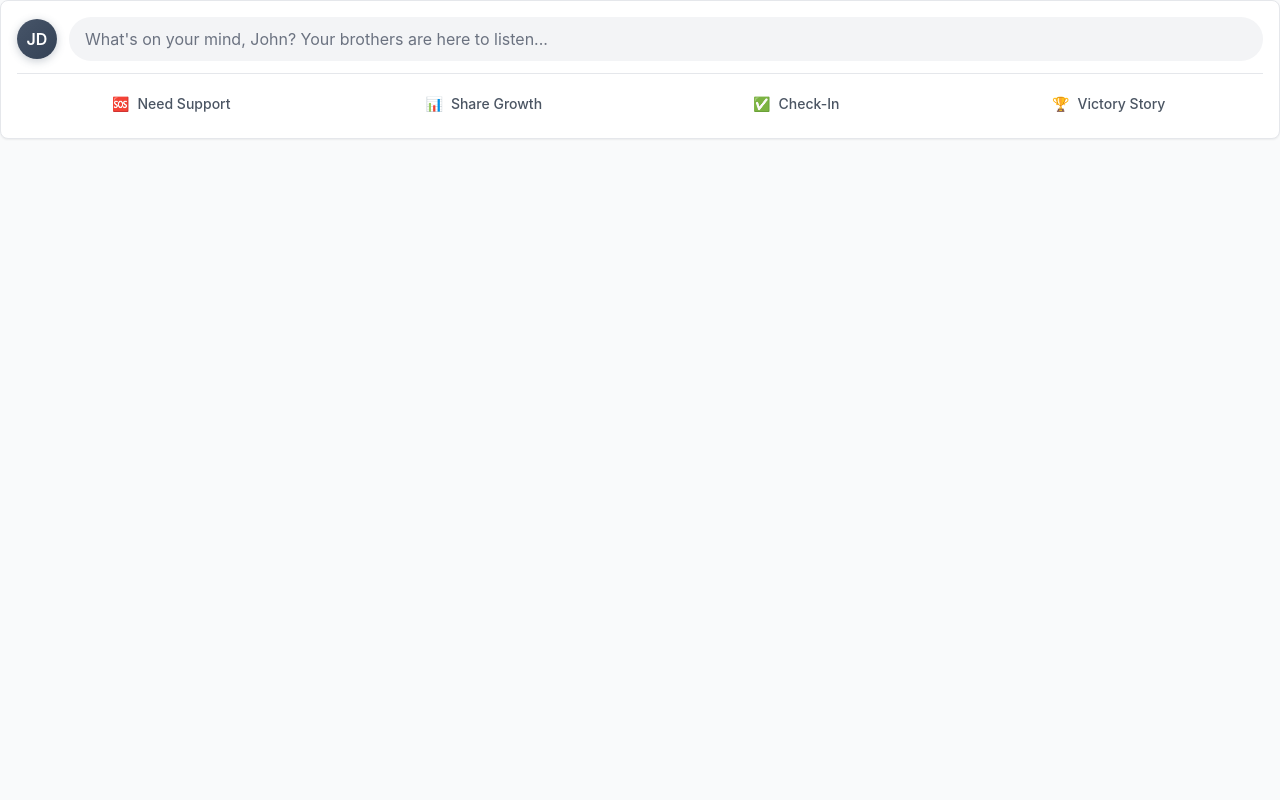
Scenario: CreatePost Component › Modal Interactions › should open modal when clicking create post button
Step 1. Click the button with aria-label "create a new post" → (168, 39), box [69, 17, 1263, 61]
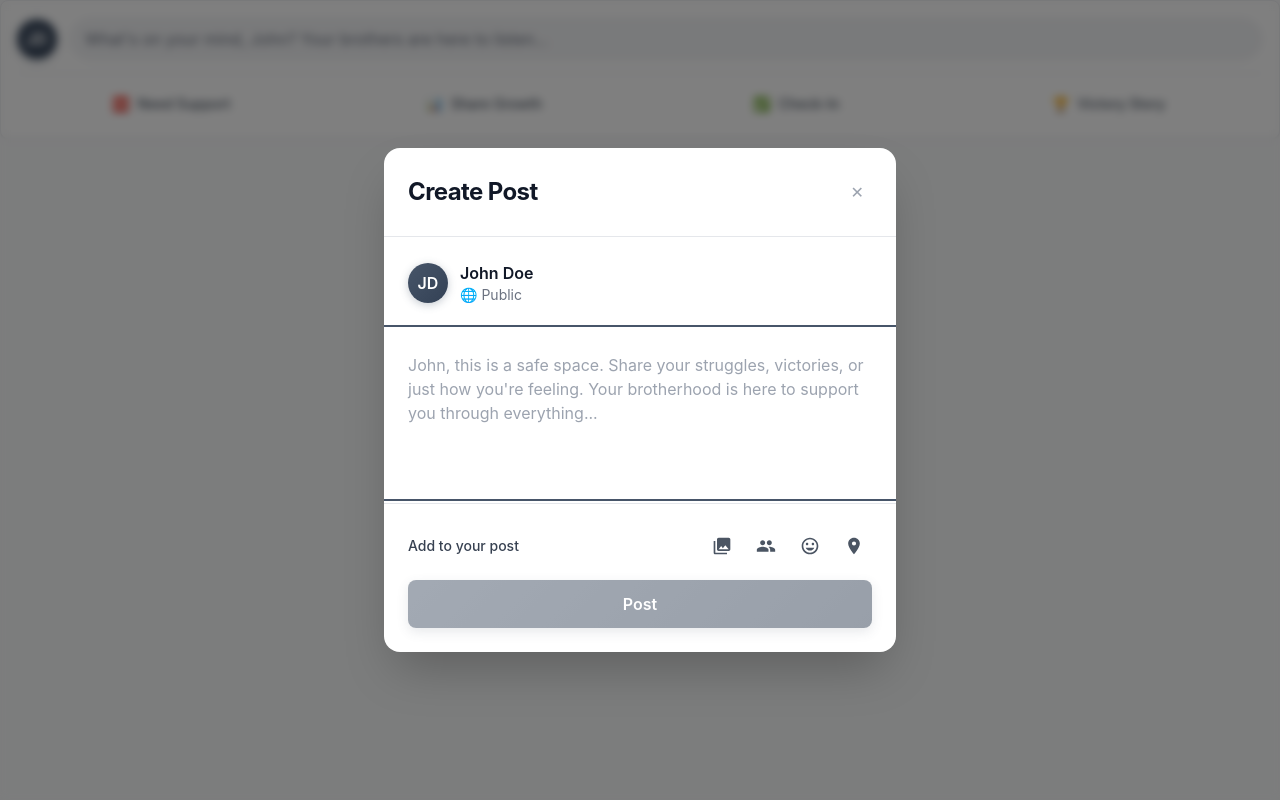
Expected: the dialog is shown
Expected: the heading "Create Post" is shown, [408, 176, 538, 208]
